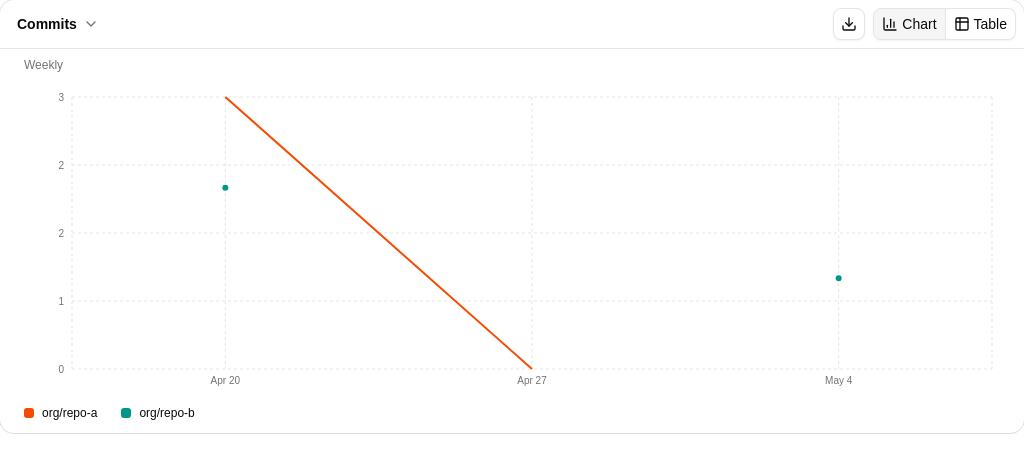
MetricTimeseriesView › switches the charted metric through the metric select
The image size is (1024, 451).
Step 1. Click the dropdown named "Metric" → (58, 24), box left=8, top=8, right=108, bottom=40
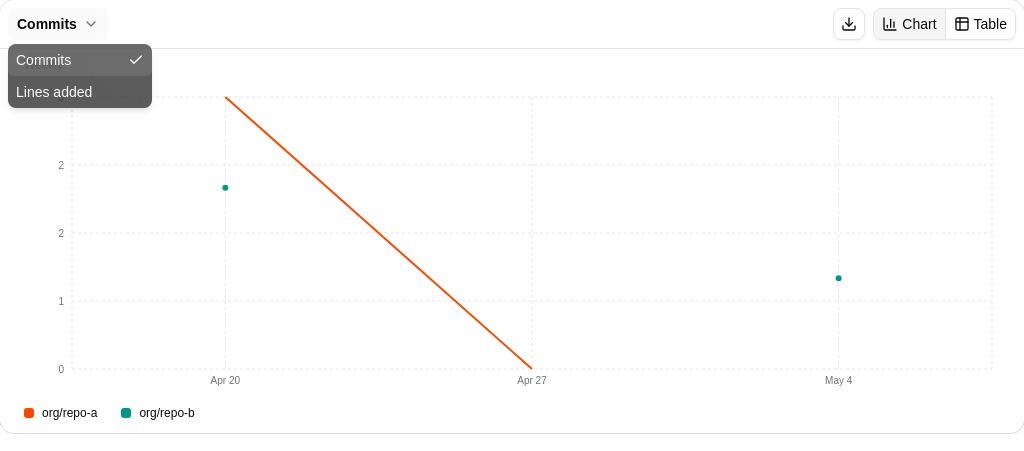
Step 2. Click the option "Lines added" → (54, 92), box left=16, top=84, right=92, bottom=100
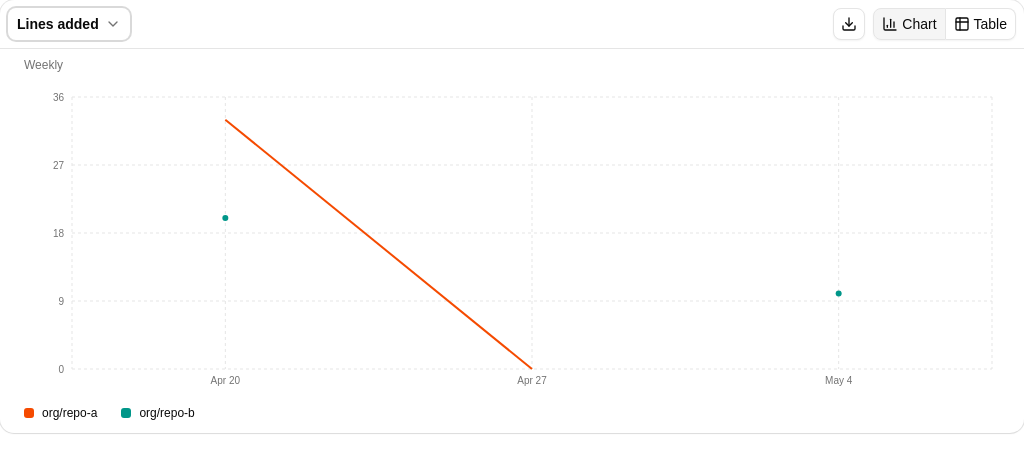
Result: the dropdown named "Metric" shows "Lines added" at left=8, top=8, right=130, bottom=40
